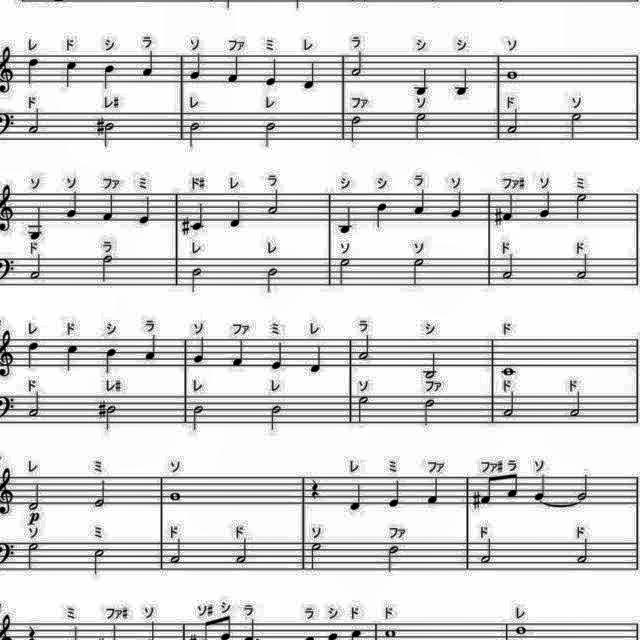Diez: (96, 399, 108, 421), (94, 119, 106, 138), (181, 215, 191, 237), (492, 207, 503, 227), (472, 488, 482, 509)
Eighth-note: (479, 474, 496, 506), (506, 472, 522, 500)
Full-note: (500, 364, 518, 380), (168, 490, 184, 504), (506, 68, 518, 84), (514, 624, 530, 636), (384, 628, 398, 640)
Half-note: (380, 543, 406, 573), (25, 480, 47, 514), (564, 108, 584, 142), (268, 402, 288, 436), (354, 394, 374, 428), (411, 253, 429, 290), (494, 252, 516, 282), (188, 266, 208, 298), (188, 402, 208, 434), (306, 542, 326, 574), (574, 536, 594, 568), (503, 108, 525, 136), (566, 390, 586, 420), (422, 350, 442, 380), (418, 398, 439, 426), (572, 189, 588, 225), (92, 476, 108, 512), (259, 122, 279, 150), (356, 332, 372, 366), (350, 50, 368, 80), (266, 188, 284, 218), (28, 253, 46, 283), (98, 252, 116, 282), (263, 266, 281, 296), (479, 538, 497, 568), (347, 112, 363, 144), (336, 256, 352, 288), (26, 540, 42, 572), (25, 110, 43, 138), (413, 112, 431, 140), (25, 390, 43, 418), (167, 538, 185, 566), (233, 536, 251, 564), (502, 392, 518, 420), (187, 122, 203, 150), (575, 474, 591, 502), (576, 251, 590, 281), (91, 547, 105, 577), (104, 403, 118, 431), (102, 121, 115, 149)
Quarter-note: (337, 202, 359, 236), (453, 65, 473, 101), (266, 340, 290, 370), (348, 478, 368, 514), (28, 204, 46, 243), (100, 191, 120, 225), (64, 188, 84, 220), (425, 475, 445, 507), (228, 338, 248, 368), (262, 54, 280, 86), (26, 340, 44, 372), (143, 332, 161, 364), (307, 344, 325, 376), (62, 60, 82, 88), (140, 48, 160, 76), (63, 342, 81, 373), (228, 197, 244, 231), (415, 67, 433, 97), (189, 201, 207, 231), (372, 201, 390, 231), (412, 188, 430, 218), (226, 53, 242, 85), (500, 192, 516, 224), (188, 54, 206, 82), (539, 190, 555, 220), (104, 346, 120, 376), (192, 334, 208, 364), (389, 478, 405, 508), (534, 473, 550, 503), (139, 194, 153, 228), (100, 61, 116, 90), (303, 60, 317, 92), (451, 190, 465, 222), (26, 57, 40, 87)
Quarter-rest: (305, 478, 323, 502)
